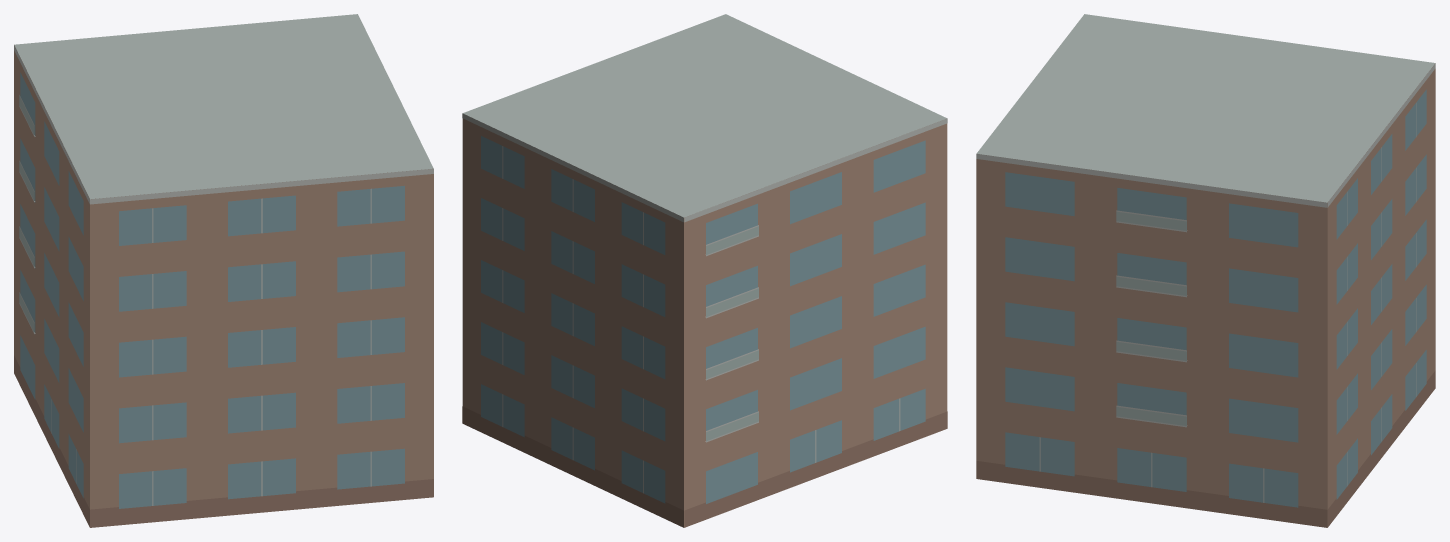
Rendered from survey-upis-32783971.glb.
3 views of the same model, side by side, from view 1: azimuth 30°, elevation 25°; view 2: azimuth 150°, elevation 25°; view 3: azimuth 270°, elevation 25° (orthographic). The views are drawn at different scales.
Parts seen in each view (by area): view 1: survey-upis-32783971.tmp; view 2: survey-upis-32783971.tmp; view 3: survey-upis-32783971.tmp.
Part boxes in pixels (<box>): survey-upis-32783971.tmp: <box>14,14,433,527</box>; survey-upis-32783971.tmp: <box>462,14,947,527</box>; survey-upis-32783971.tmp: <box>976,14,1435,527</box>.
Bounding box in the file's own units: 18.98 × 15.25 × 19.52.
